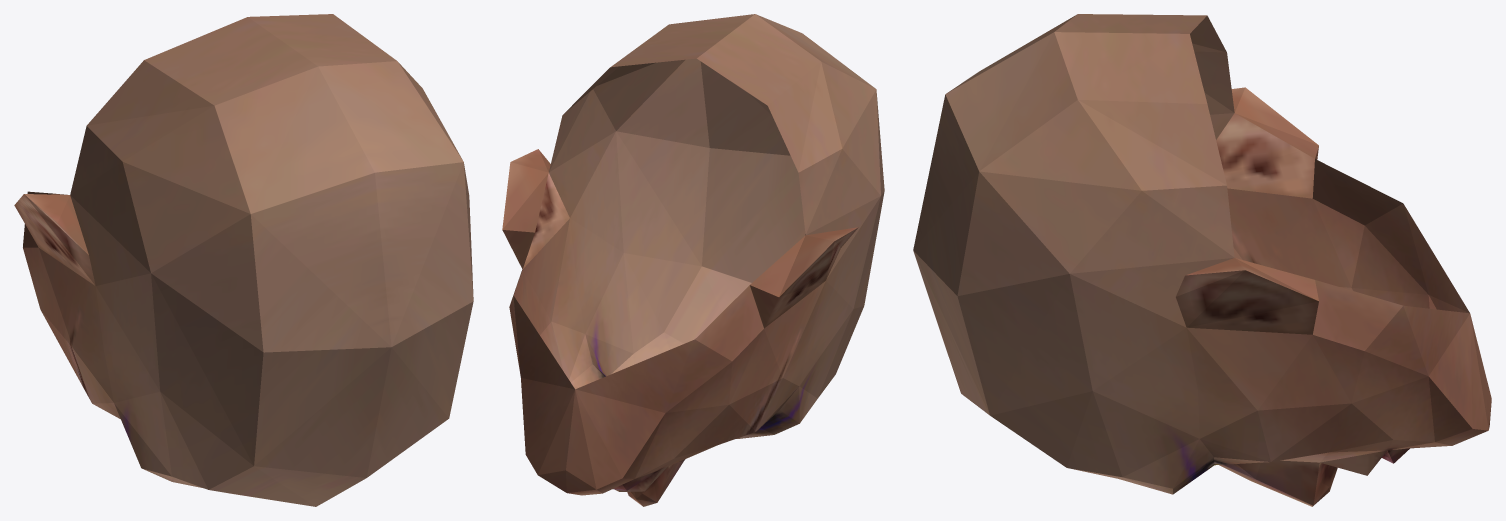
Rendered from common_face_male_2308.obj.
The picture shows the model from 3 angles, left to right: view 1: azimuth 30°, elevation 25°; view 2: azimuth 150°, elevation 25°; view 3: azimuth 270°, elevation 25°; orthographic projection. The views are drawn at different scales.
Visible parts, largest first — view 1: common_face_male_2315; view 2: common_face_male_2315; view 3: common_face_male_2315.
Boxes of the visible parts, box(x1,y1,x2,y2) form: common_face_male_2315: box(14, 14, 473, 506); common_face_male_2315: box(502, 14, 884, 506); common_face_male_2315: box(913, 14, 1491, 506).
Bounding box in the file's own units: 7.58 × 9.18 × 10.14.
Materials: 1 (1 with a texture image).
